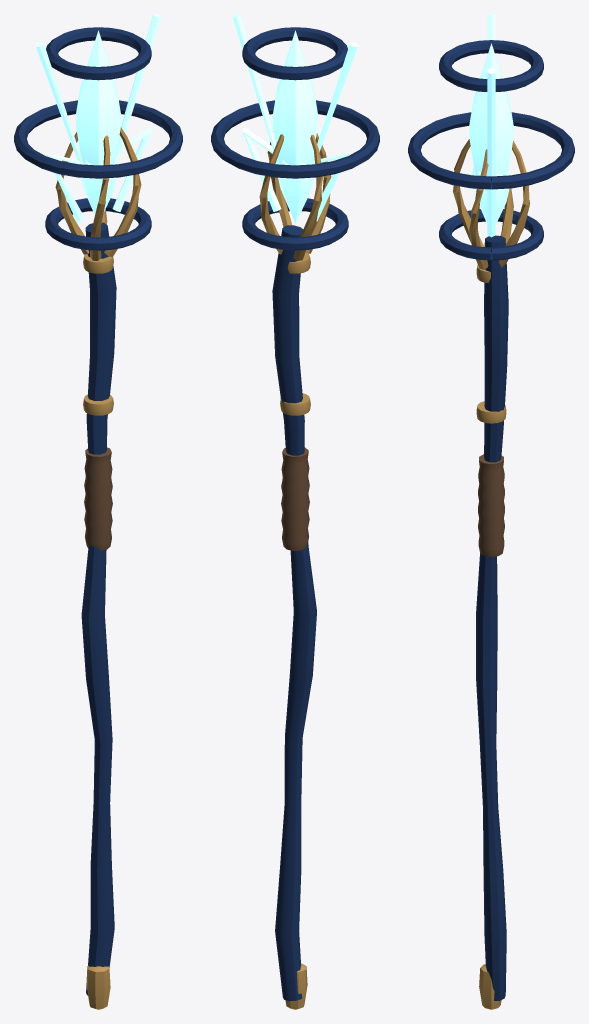
File: boss_thunder_abbot_main_weapon.glb
3 renders of one model, left to right at view 1: azimuth 30°, elevation 25°; view 2: azimuth 150°, elevation 25°; view 3: azimuth 270°, elevation 25°, orthographic.
Parts seen in each view (by area): view 1: boss_thunder_abbot_main_weapon; view 2: boss_thunder_abbot_main_weapon; view 3: boss_thunder_abbot_main_weapon.
Part boxes in pixels (box(x1,y1,x2,y2)): boss_thunder_abbot_main_weapon: box(14, 14, 182, 1009); boss_thunder_abbot_main_weapon: box(211, 14, 379, 1009); boss_thunder_abbot_main_weapon: box(408, 14, 574, 1009).
Bounding box in the file's own units: 0.3233 × 2.07 × 0.3234.
